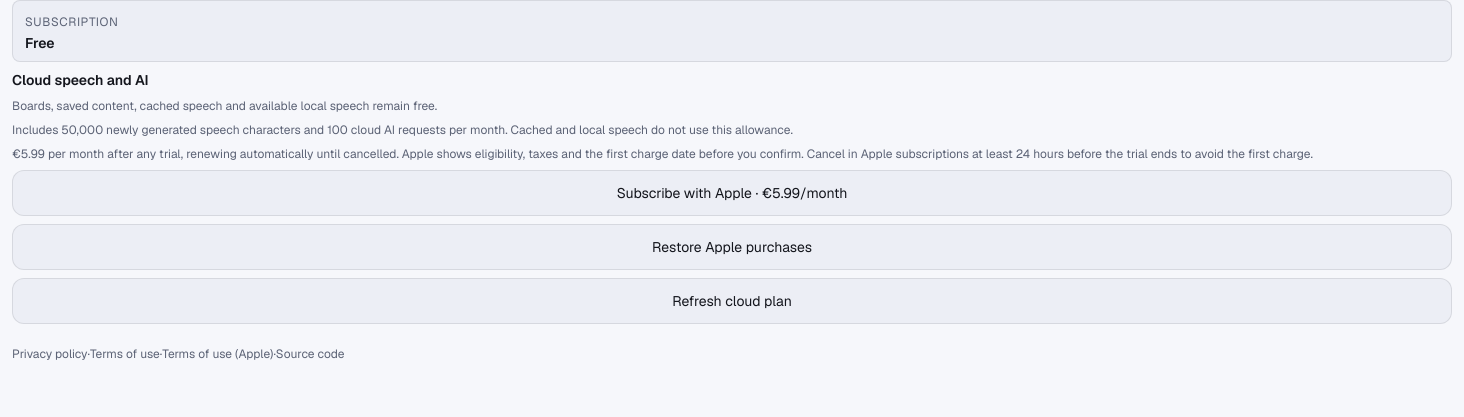
Test case: AAC account purchase settings › uses Apple and its actual localized price inside the native app
The image size is (1464, 417).
Step 1. Click the button "Subscribe with Apple · €5.99/month" → (732, 193), box [12,170,1452,216]
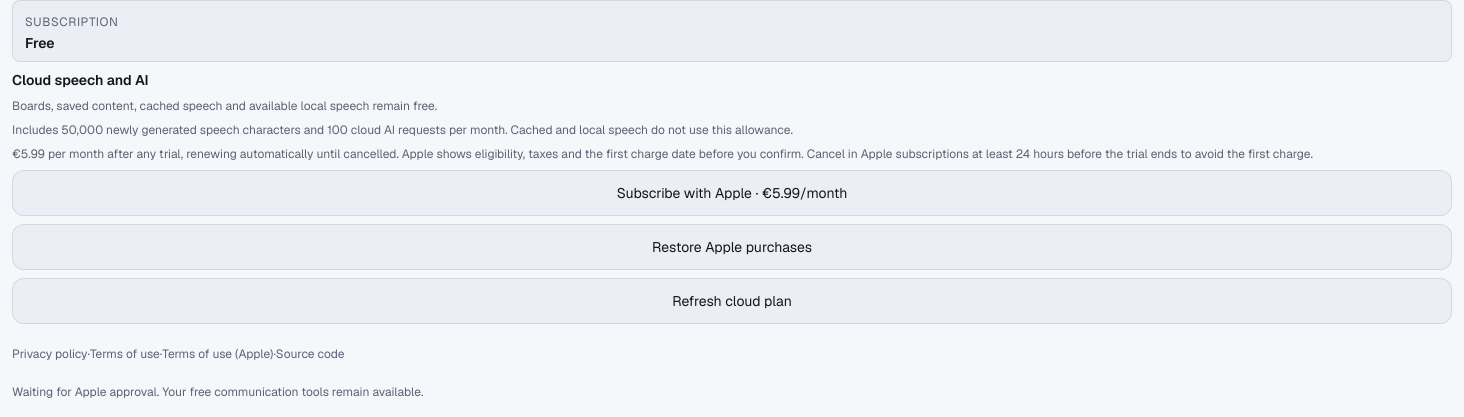
Expected: the text "Boards, saved content, cached speech" is shown, [12,98,437,114]
Expected: the text "Waiting for Apple approval. Your free communication tools remain available." is shown, [12,384,423,400]
